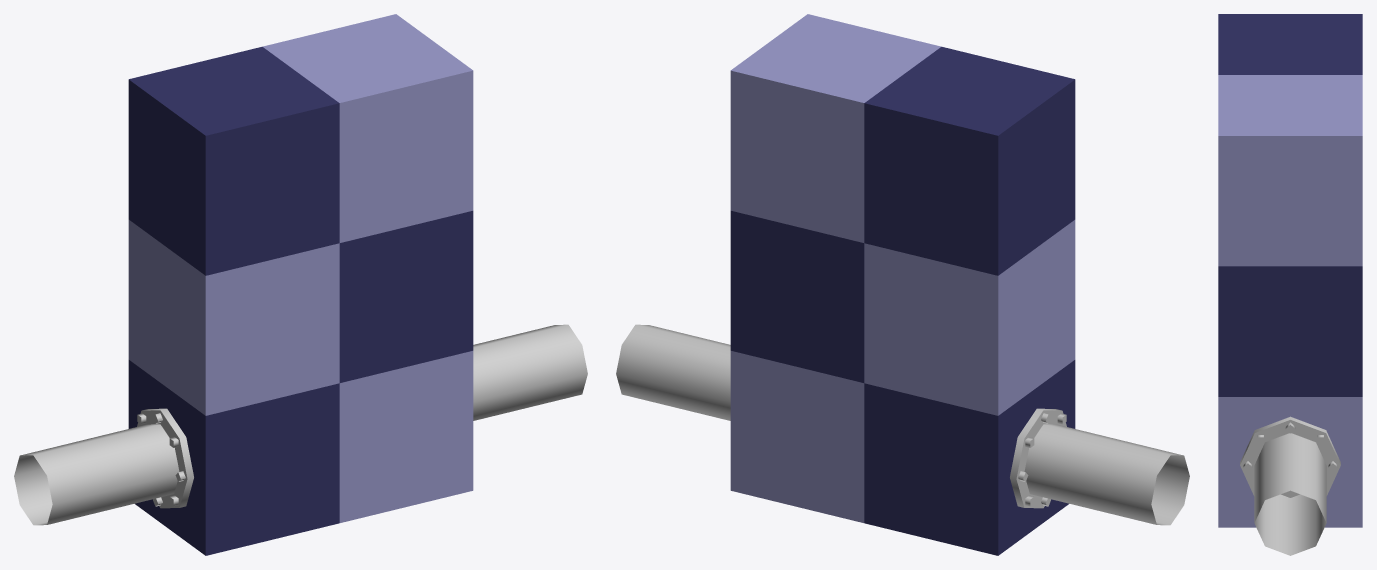
File: SmallStorage_StorageFluidMicro.obj
3 views of the same model, side by side, from view 1: azimuth 30°, elevation 25°; view 2: azimuth 150°, elevation 25°; view 3: azimuth 270°, elevation 25° (orthographic). The views are drawn at different scales.
Size of the model in its own units: 8 by 6 by 2.
